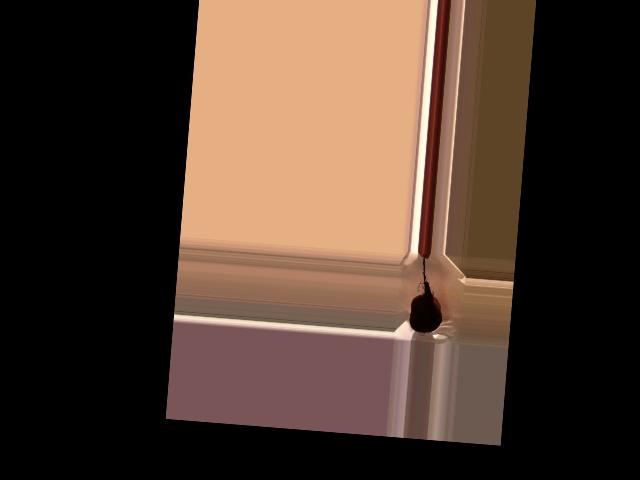beet: (409, 255, 447, 334)
